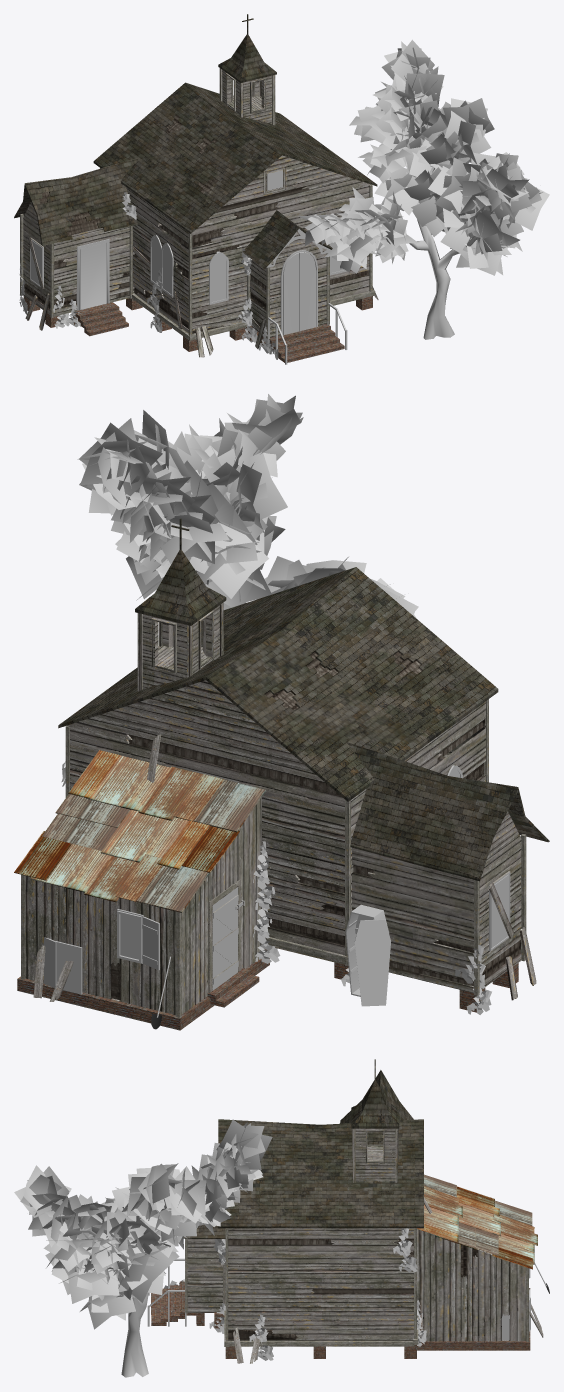
File: Mod2.FBX
3 renders of one model, top to bottom at view 1: azimuth 30°, elevation 25°; view 2: azimuth 150°, elevation 25°; view 3: azimuth 270°, elevation 25°, orthographic. The views are drawn at different scales.
Visible parts, largest first — view 1: Plane303, Plane001, Box003, Box021, Object002, Box040, Box041, Cylinder005, StraightStair002, StraightStair003, Box061, Box016 (+4 smaller); view 2: Plane001, Box003, Plane303, Box004, Object002, Box021, Object027, Box064, Object091, Object034, Box054, Object033 (+20 smaller); view 3: Plane303, Box003, Plane001, Box004, Object002, Box021, Cylinder005, StraightStair002, Box064, Object027, Object034, Box016 (+8 smaller).
Part boxes in pixels (x1,y1,x2,y2): Plane303: (298,39,549,275); Plane001: (14,82,377,268); Box003: (23,155,370,337); Box021: (20,168,375,340); Object002: (218,14,276,123); Box040: (280,250,317,335); Box041: (76,239,109,310); Cylinder005: (409,91,496,339); StraightStair002: (260,324,344,362); StraightStair003: (73,302,128,336); Box061: (209,251,228,304); Box016: (219,68,275,125); Plane001: (58,567,549,881); Box003: (67,680,521,992); Plane303: (77,394,418,618); Box004: (25,797,265,1014); Object002: (135,518,226,689); Box021: (21,699,526,1017); Object027: (100,809,188,867); Box064: (17,958,269,1030); Object091: (354,919,390,1006); Object034: (85,755,170,811); Box054: (209,879,240,992); Object033: (175,779,266,832); Plane303: (14,1119,272,1329); Box003: (187,1228,413,1340); Plane001: (183,1070,423,1238); Box004: (417,1214,526,1341); Object002: (351,1059,399,1181); Box021: (185,1228,528,1346); Cylinder005: (121,1292,148,1377); StraightStair002: (151,1281,204,1325); Box064: (417,1288,530,1350); Object027: (456,1203,500,1236); Object034: (424,1205,458,1236); Box016: (352,1128,398,1182).
Size of the model in its own units: 13.24 by 8.68 by 15.27.
